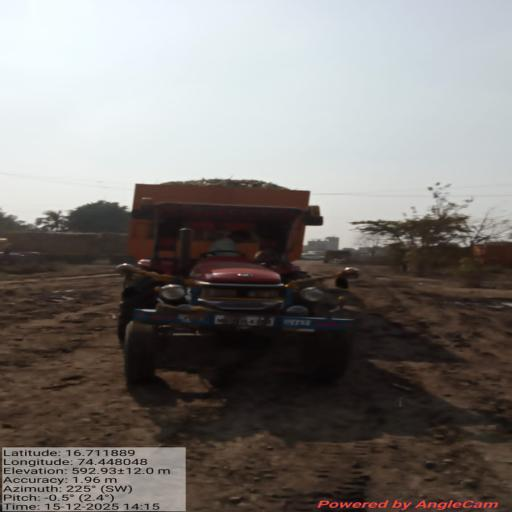number_plate: (214, 315, 274, 326)
